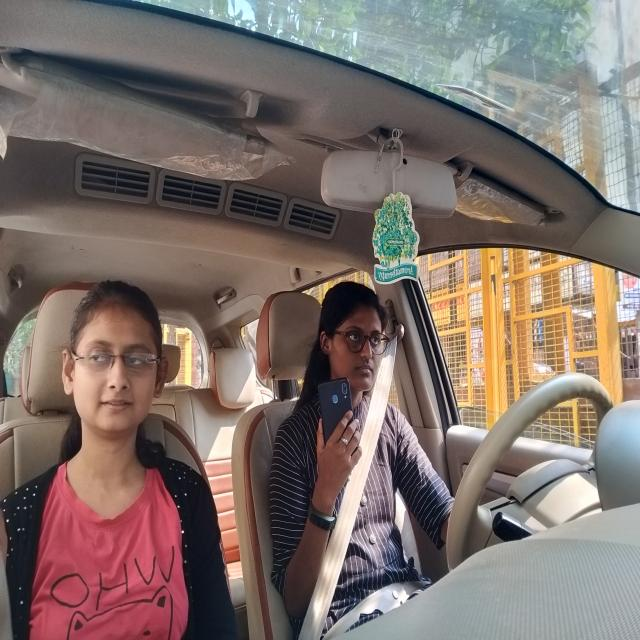mobile: (314, 371, 366, 472)
person: (60, 284, 169, 441), (319, 285, 392, 393)
